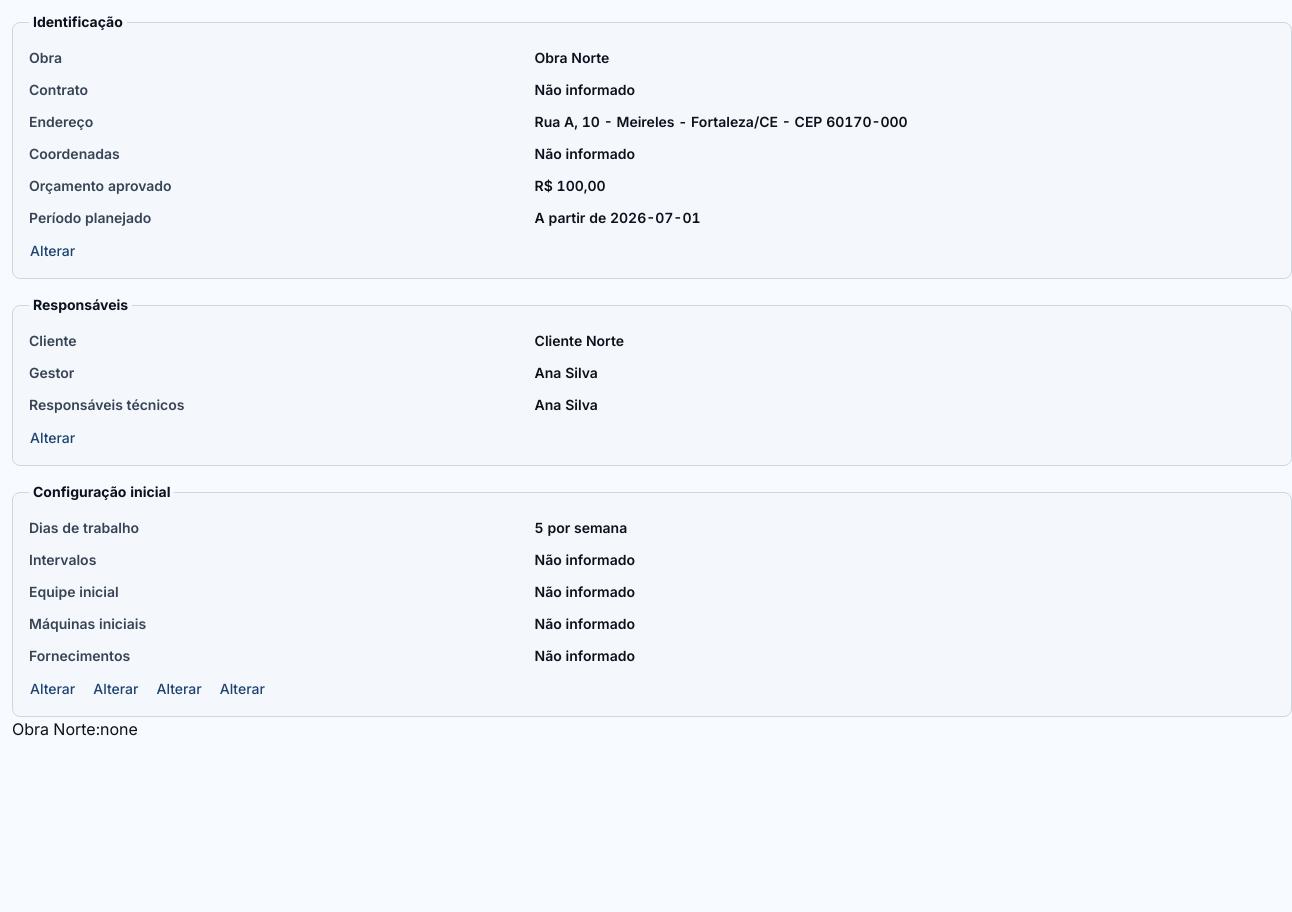
Test: Project wizard polish › returns to a review section without discarding the entered data
Click the button "Alterar" below "Período planejado". click: (53,251)
box: [29,240,76,262]
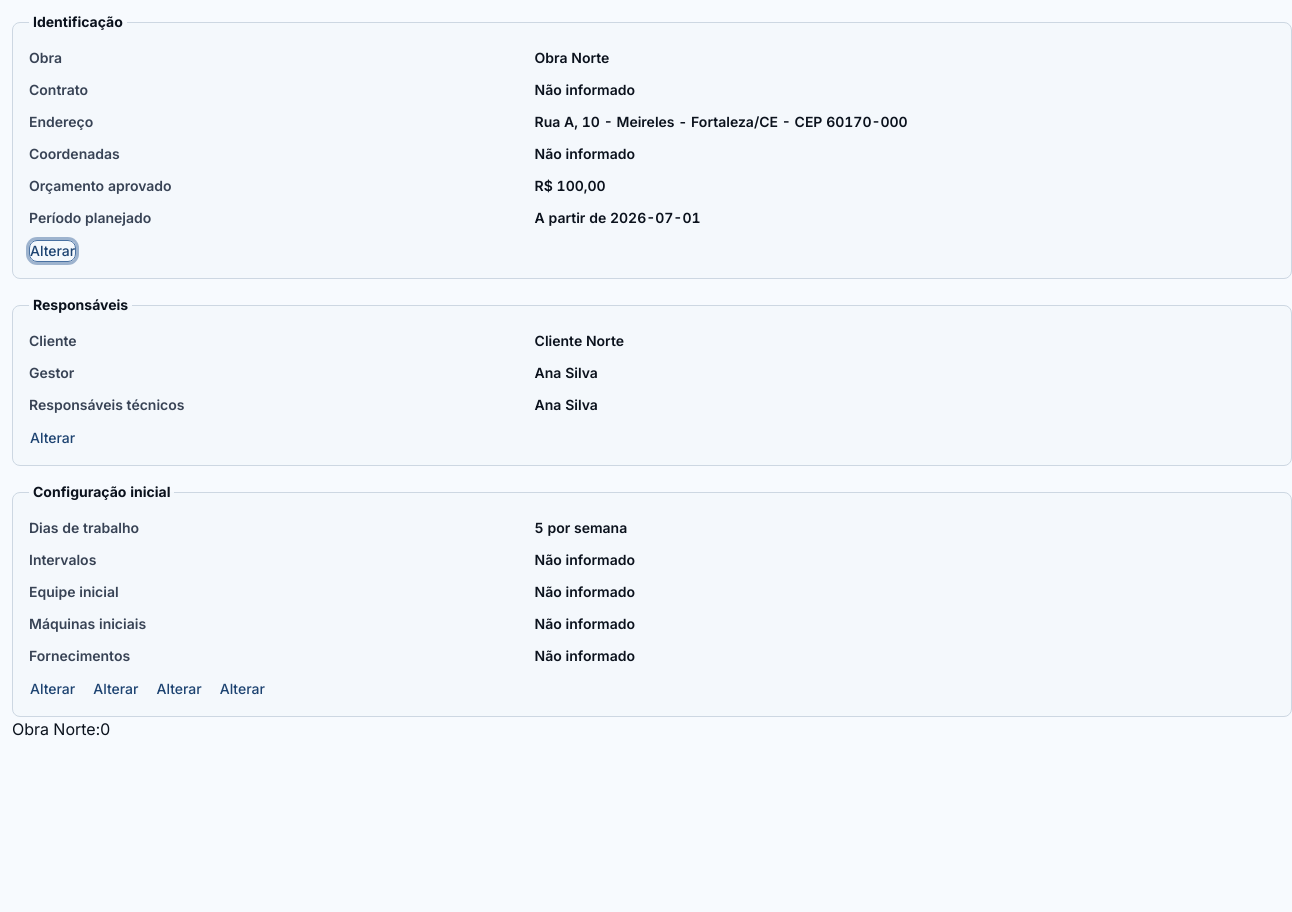
Expected: the text "Obra Norte:0" is shown, [12,719,110,739]
